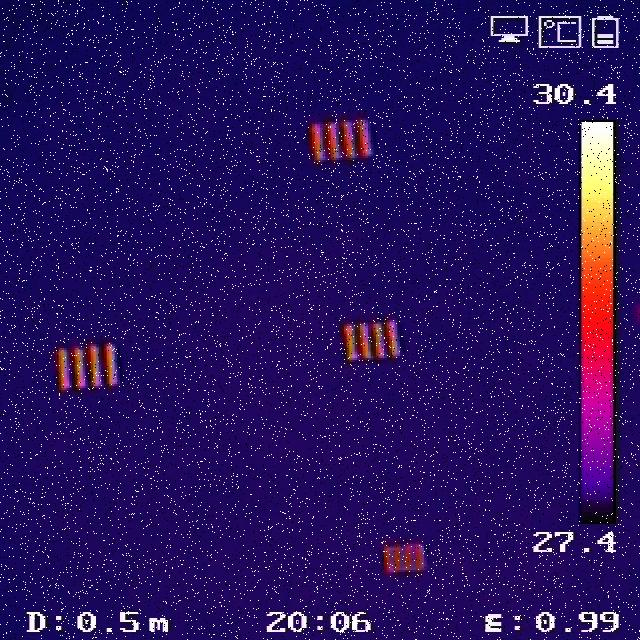Distinguishable 4-bar target: (305, 117, 376, 162), (56, 343, 119, 392), (342, 319, 402, 361)
threshold 4-bar target: (380, 544, 429, 573)
